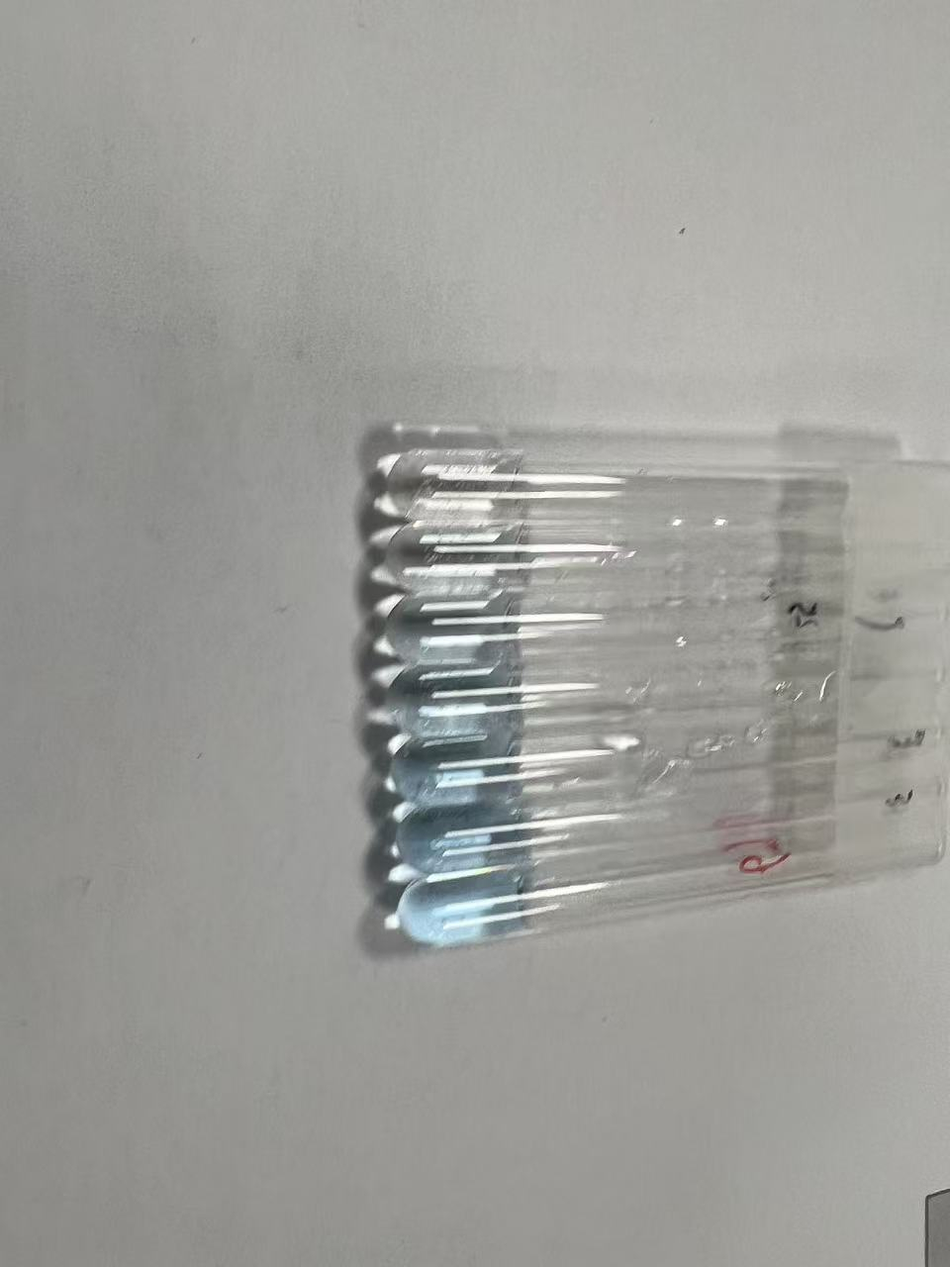drop: (385, 523, 553, 601), (390, 729, 545, 810), (386, 449, 549, 525), (383, 590, 539, 666), (394, 805, 545, 879), (389, 665, 534, 738), (398, 875, 533, 951)
